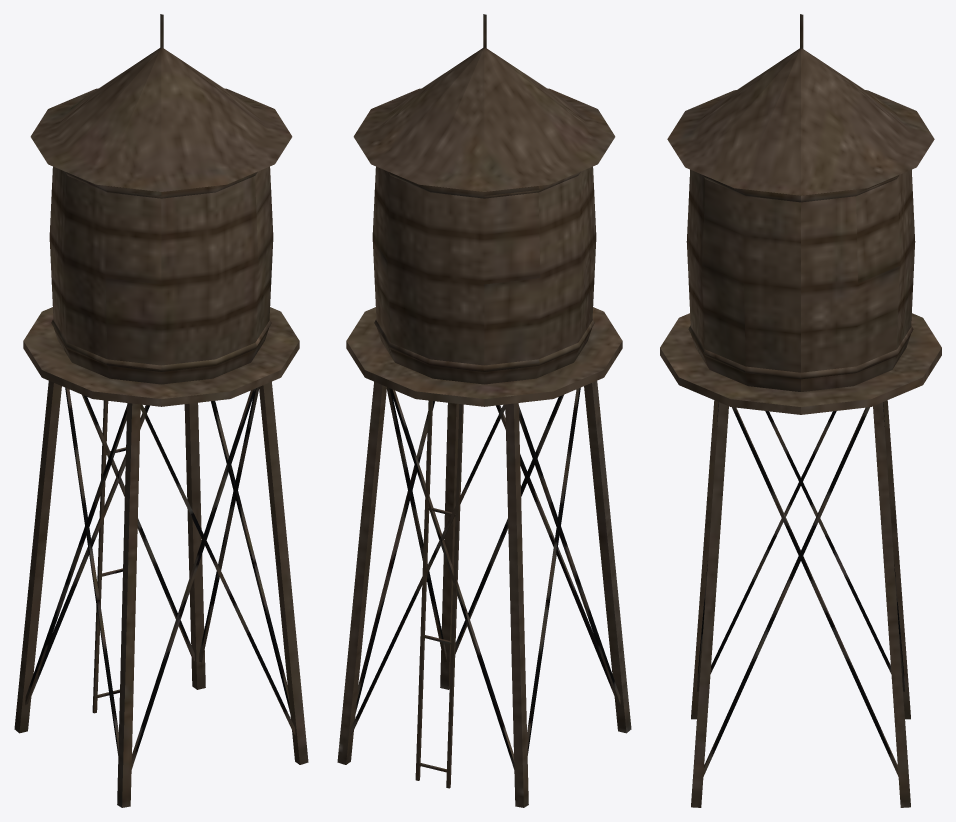
File: b_watertower_far.glb
3 views of the same model, side by side, from view 1: azimuth 30°, elevation 25°; view 2: azimuth 150°, elevation 25°; view 3: azimuth 270°, elevation 25° (orthographic). The views are drawn at different scales.
Parts seen in each view (by area): view 1: b_watertower_far; view 2: b_watertower_far; view 3: b_watertower_far.
Part boxes in pixels (bbox=[...]): b_watertower_far: bbox=[14, 14, 308, 807]; b_watertower_far: bbox=[337, 14, 631, 807]; b_watertower_far: bbox=[660, 14, 941, 807].
Bounding box in the file's own units: 3.9 × 11.4 × 3.9.
Materials: 1 (1 with a texture image).
